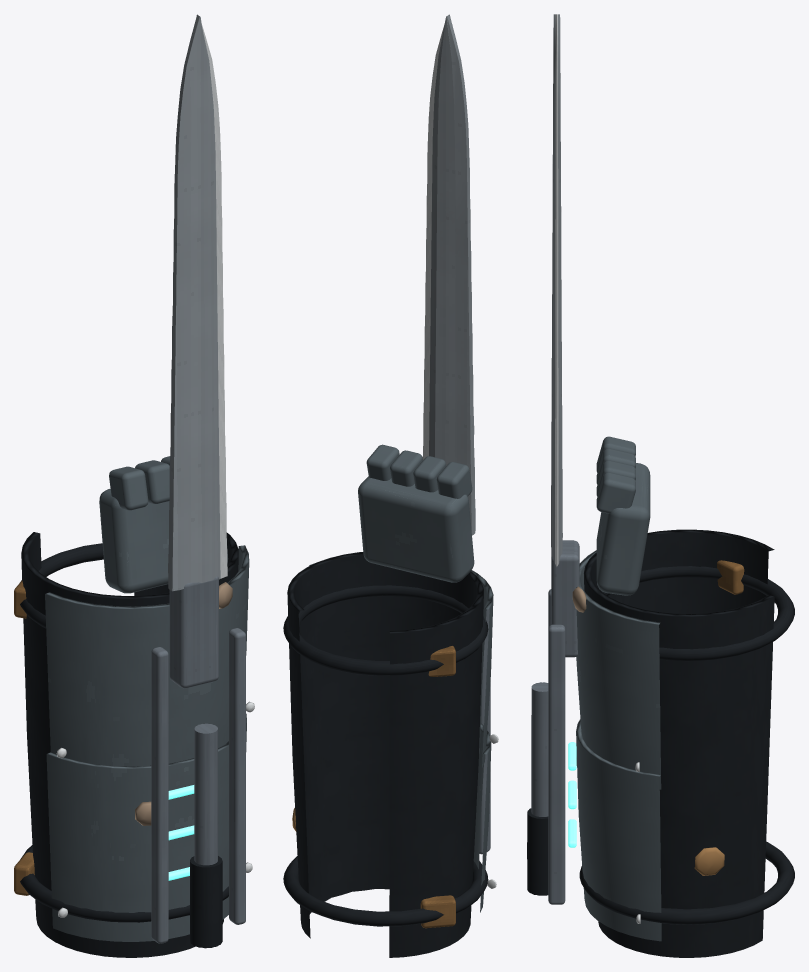
File: servo-blade.lod1.glb
3 views of the same model, side by side, from view 1: azimuth 30°, elevation 25°; view 2: azimuth 150°, elevation 25°; view 3: azimuth 270°, elevation 25° (orthographic). The views are drawn at different scales.
Visible parts, largest first — view 1: ceramic / ceramic composite panel, steel / forged blade steel, alloy / machined anodized alloy, polymer / stippled polymer, edge / honed bright bevel, bronze / cast bronze with patina, energy / emissive field channel, glaze bead; view 2: polymer / stippled polymer, steel / forged blade steel, ceramic / ceramic composite panel, edge / honed bright bevel, bronze / cast bronze with patina, alloy / machined anodized alloy; view 3: polymer / stippled polymer, ceramic / ceramic composite panel, alloy / machined anodized alloy, steel / forged blade steel, edge / honed bright bevel, bronze / cast bronze with patina, energy / emissive field channel, peened pin.
Part boxes in pixels (x1,y1,x2,y2): ceramic / ceramic composite panel: [45, 456, 249, 941]; steel / forged blade steel: [168, 14, 220, 591]; alloy / machined anodized alloy: [151, 576, 245, 943]; polymer / stippled polymer: [20, 532, 238, 957]; edge / honed bright bevel: [56, 24, 254, 917]; bronze / cast bronze with patina: [14, 580, 34, 895]; energy / emissive field channel: [168, 785, 194, 880]; glaze bead: [135, 582, 232, 825]; polymer / stippled polymer: [283, 552, 488, 957]; steel / forged blade steel: [429, 14, 475, 535]; ceramic / ceramic composite panel: [309, 444, 493, 912]; edge / honed bright bevel: [422, 25, 498, 888]; bronze / cast bronze with patina: [420, 646, 455, 928]; alloy / machined anodized alloy: [479, 609, 490, 854]; polymer / stippled polymer: [527, 529, 794, 957]; ceramic / ceramic composite panel: [576, 436, 661, 941]; alloy / machined anodized alloy: [531, 540, 579, 904]; steel / forged blade steel: [551, 14, 562, 563]; edge / honed bright bevel: [555, 14, 640, 923]; bronze / cast bronze with patina: [717, 560, 744, 594]; energy / emissive field channel: [568, 742, 576, 847]; peened pin: [694, 847, 724, 875].
Bounding box in the file's own units: 0.155 × 0.7051 × 0.1889.
9 materials, 6 textured.
